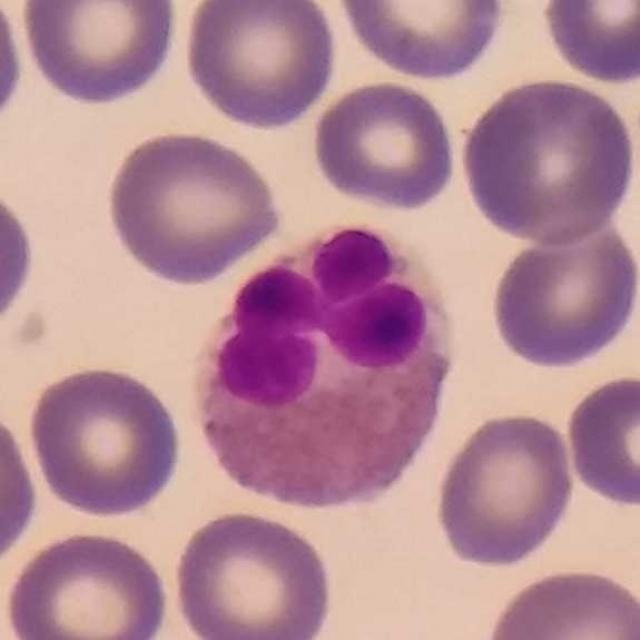eosino: (197, 223, 450, 511)
